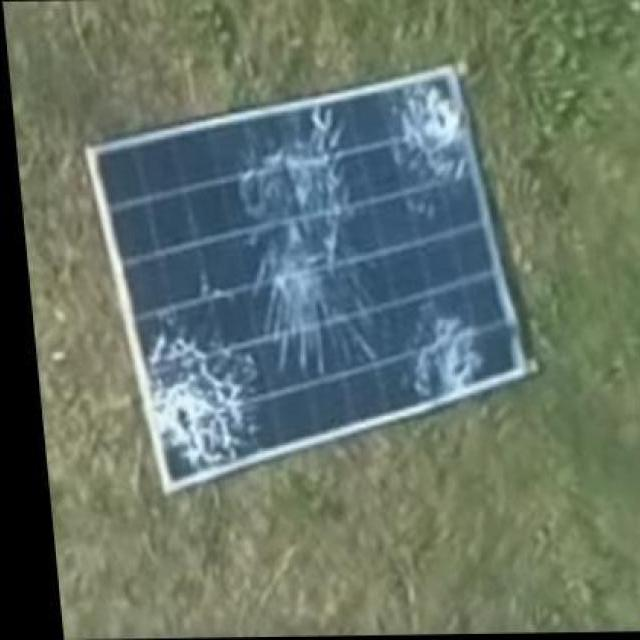cracked: (84, 70, 536, 497)
